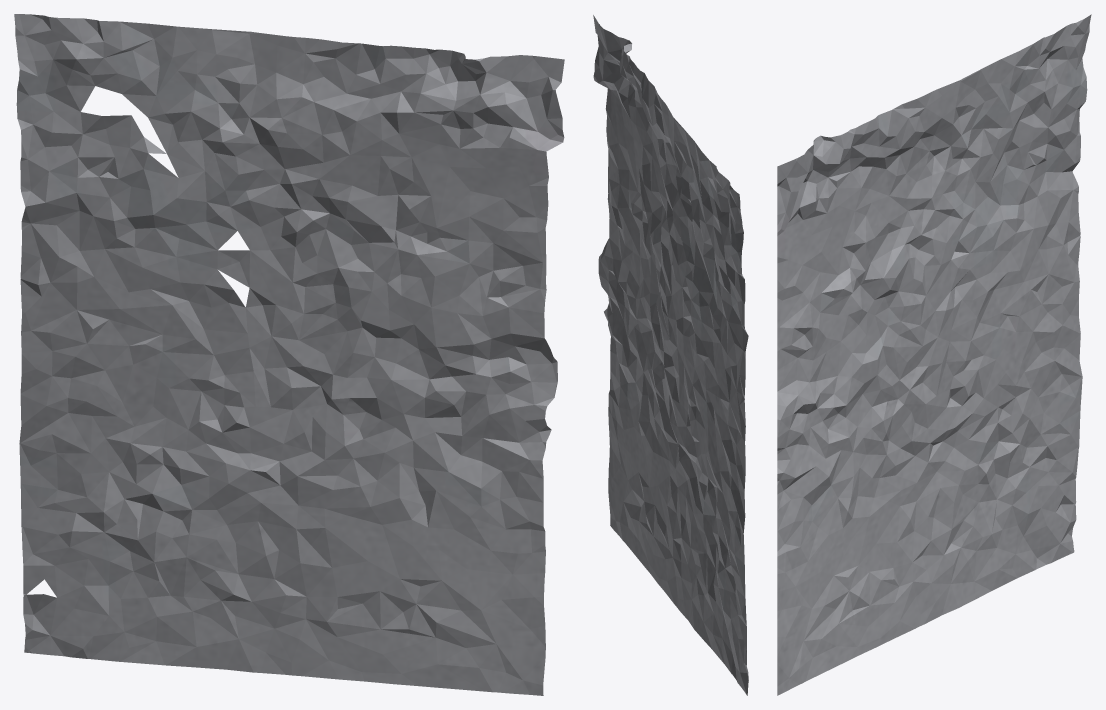
3 views of the same model, side by side, from view 1: azimuth 30°, elevation 25°; view 2: azimuth 150°, elevation 25°; view 3: azimuth 270°, elevation 25° (orthographic). The views are drawn at different scales.
Bounding box in the file's own units: 0.5085 × 0.8374 × 0.4429.
Materials: 2 (2 with a texture image).
